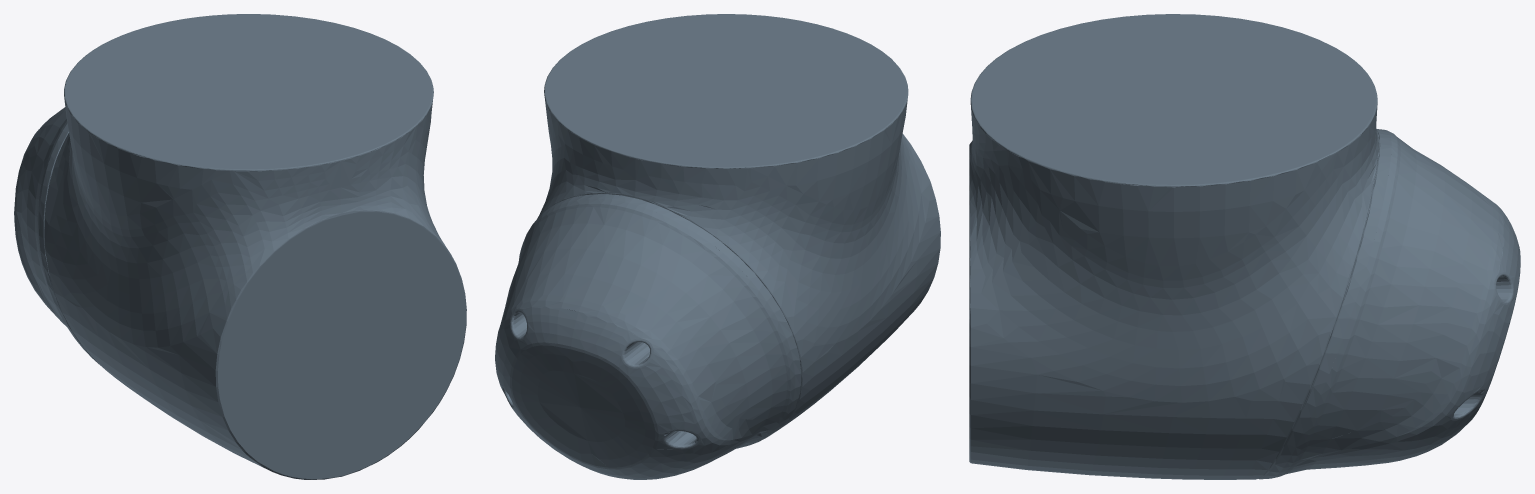
3 views of the same model, side by side, from view 1: azimuth 30°, elevation 25°; view 2: azimuth 150°, elevation 25°; view 3: azimuth 270°, elevation 25° (orthographic). The views are drawn at different scales.
Parts seen in each view (by area): view 1: A0509_3_1; view 2: A0509_3_1; view 3: A0509_3_1.
Part boxes in pixels (bbox=[...]): A0509_3_1: bbox=[14, 14, 466, 479]; A0509_3_1: bbox=[495, 14, 940, 479]; A0509_3_1: bbox=[969, 14, 1520, 479].
Size of the model in its own units: 116 by 157 by 114.
